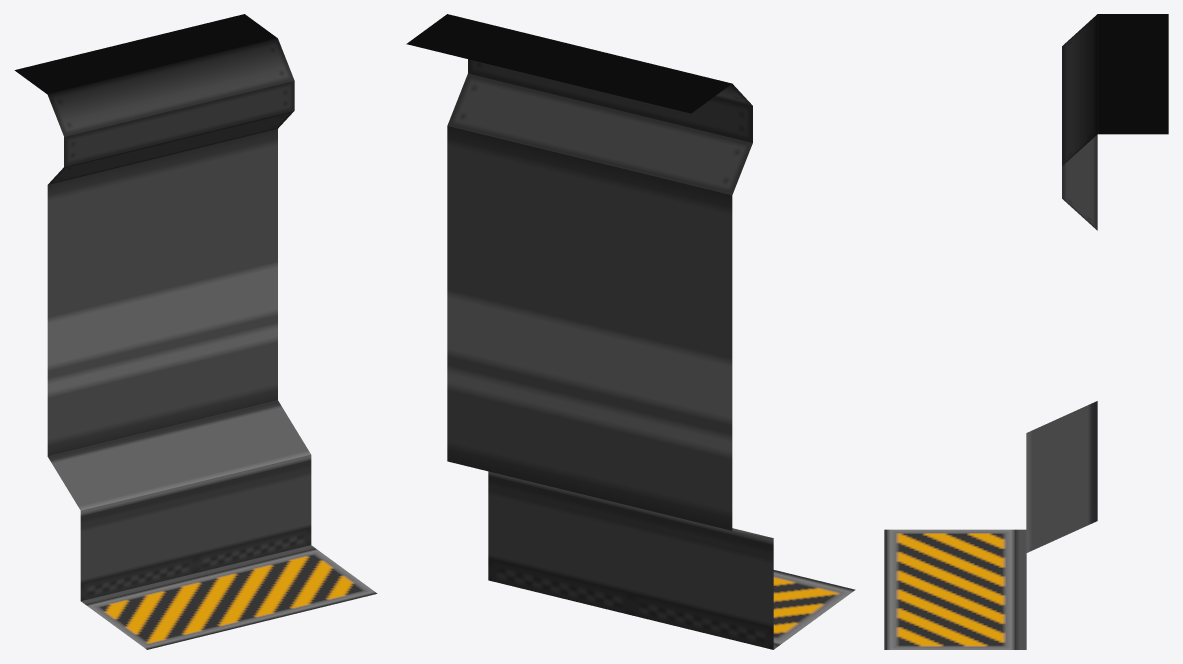
3 views of the same model, side by side, from view 1: azimuth 30°, elevation 25°; view 2: azimuth 150°, elevation 25°; view 3: azimuth 270°, elevation 25° (orthographic). The views are drawn at different scales.
Parts seen in each view (by area): view 1: Quad_2; view 2: Quad_2; view 3: Quad_2.
Boxes of the visible parts, x1,y1,x2,y2 form: Quad_2: [14, 14, 377, 649]; Quad_2: [406, 14, 855, 649]; Quad_2: [884, 14, 1168, 649].
Bounding box in the file's own units: 200 × 400 × 200.
